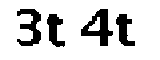3: (15, 5, 45, 52)
4: (78, 4, 114, 52)
t: (44, 11, 72, 53), (114, 11, 143, 51)
